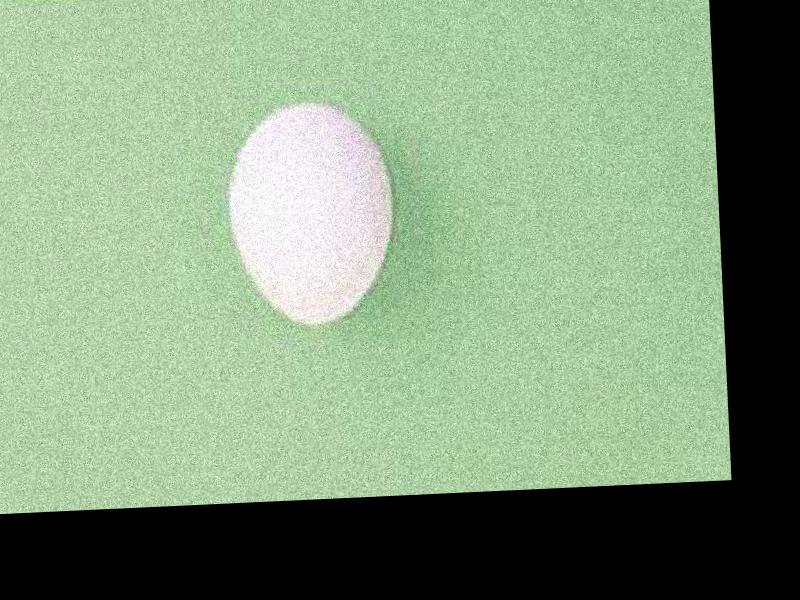Eggs: (227, 101, 396, 327)
